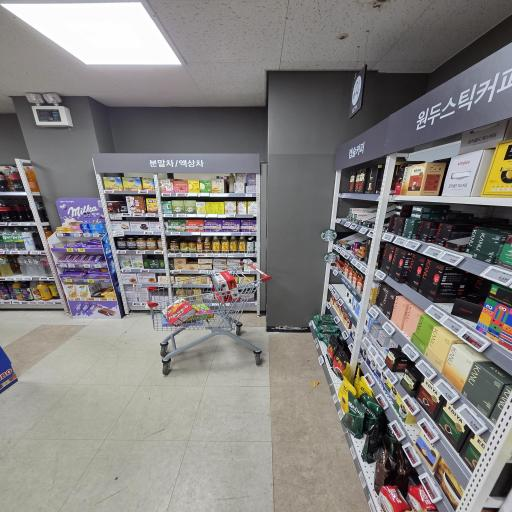fully_cart: (148, 257, 275, 371)
